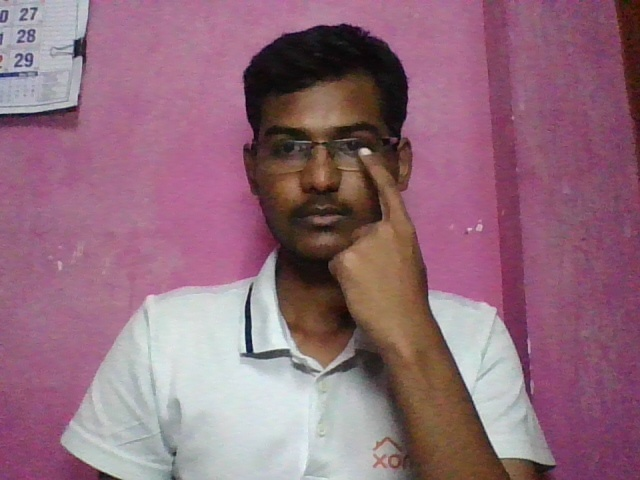Hello: (324, 136, 457, 391)
